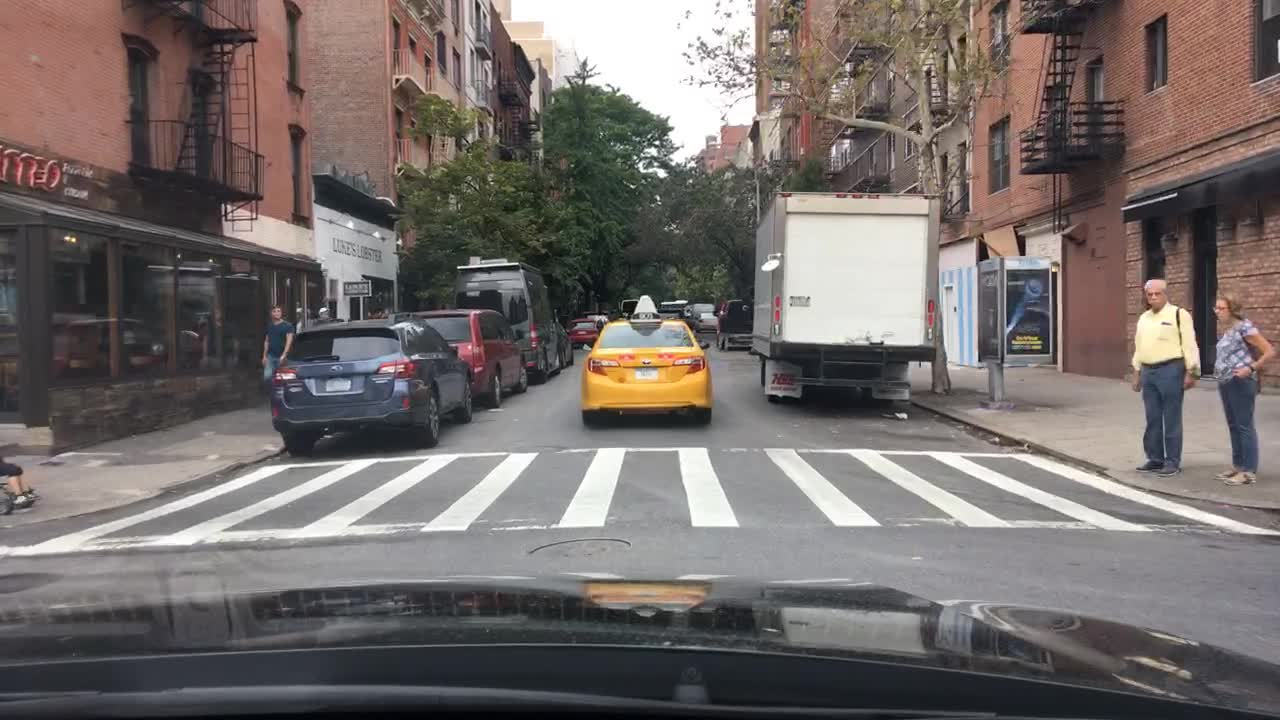bus: (454, 253, 553, 382)
car: (274, 319, 477, 459), (582, 293, 713, 425), (387, 306, 530, 406), (715, 297, 758, 350), (1, 457, 38, 517), (565, 318, 602, 346), (554, 322, 577, 365), (686, 301, 715, 326), (694, 310, 722, 331), (587, 310, 612, 332), (618, 296, 640, 320)
person: (1130, 275, 1202, 479), (1210, 290, 1275, 487), (259, 301, 297, 414), (317, 306, 335, 335)
truck: (750, 188, 940, 403)
